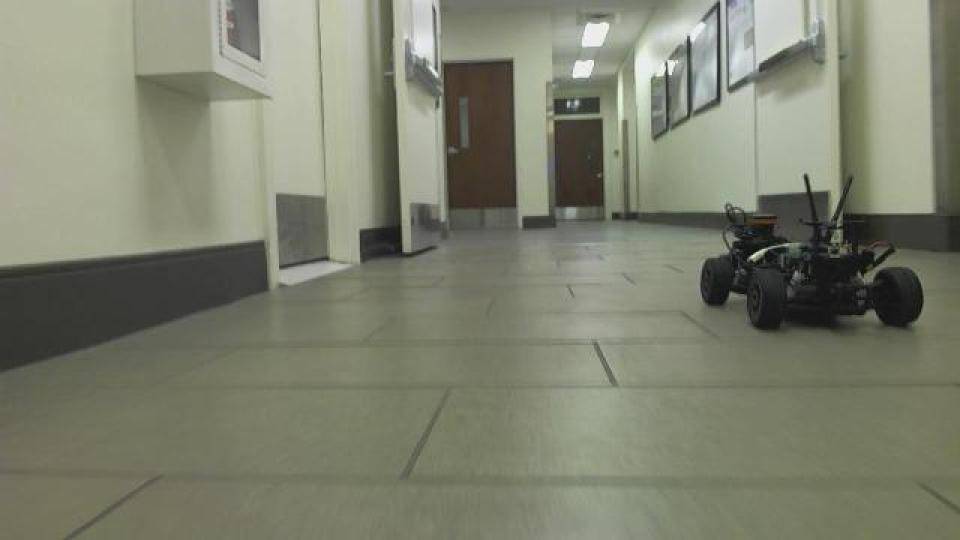car: (696, 169, 926, 333)
